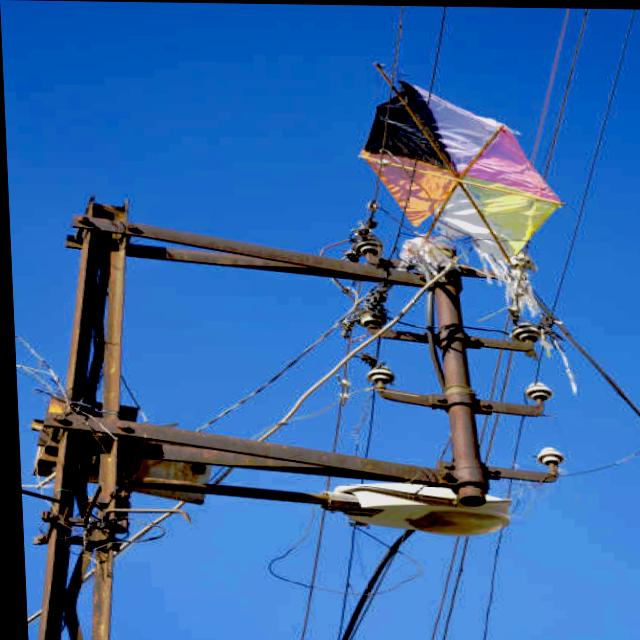obstruction: (360, 80, 559, 315)
poles: (29, 198, 557, 640)
wires: (544, 7, 639, 314), (526, 7, 593, 176), (331, 525, 406, 640), (572, 337, 640, 423), (424, 535, 462, 640), (382, 5, 422, 79), (473, 531, 497, 640), (423, 5, 452, 92), (292, 573, 309, 640), (358, 390, 372, 453), (489, 356, 509, 394), (476, 417, 493, 455)
